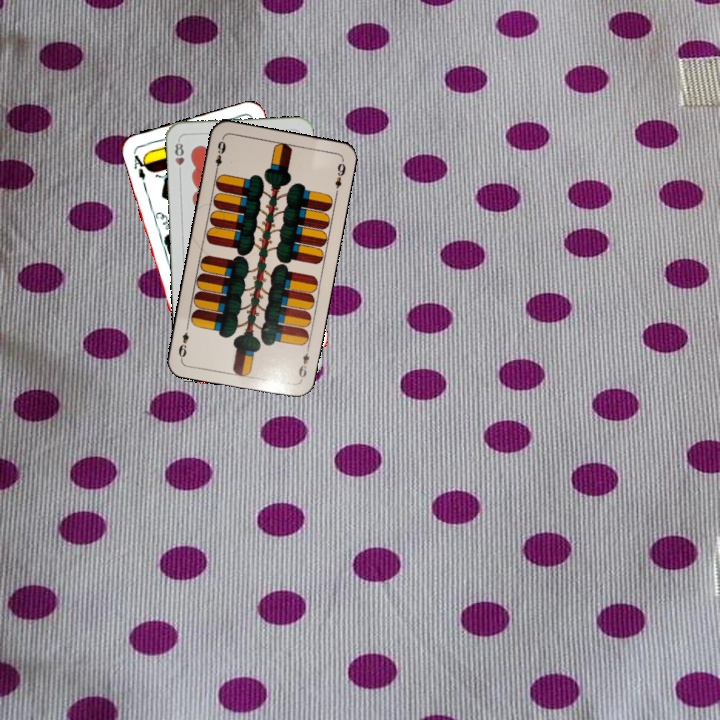E9: (294, 343, 312, 383), (211, 135, 228, 175)
EA: (129, 149, 151, 182)
H8: (171, 136, 187, 177)
